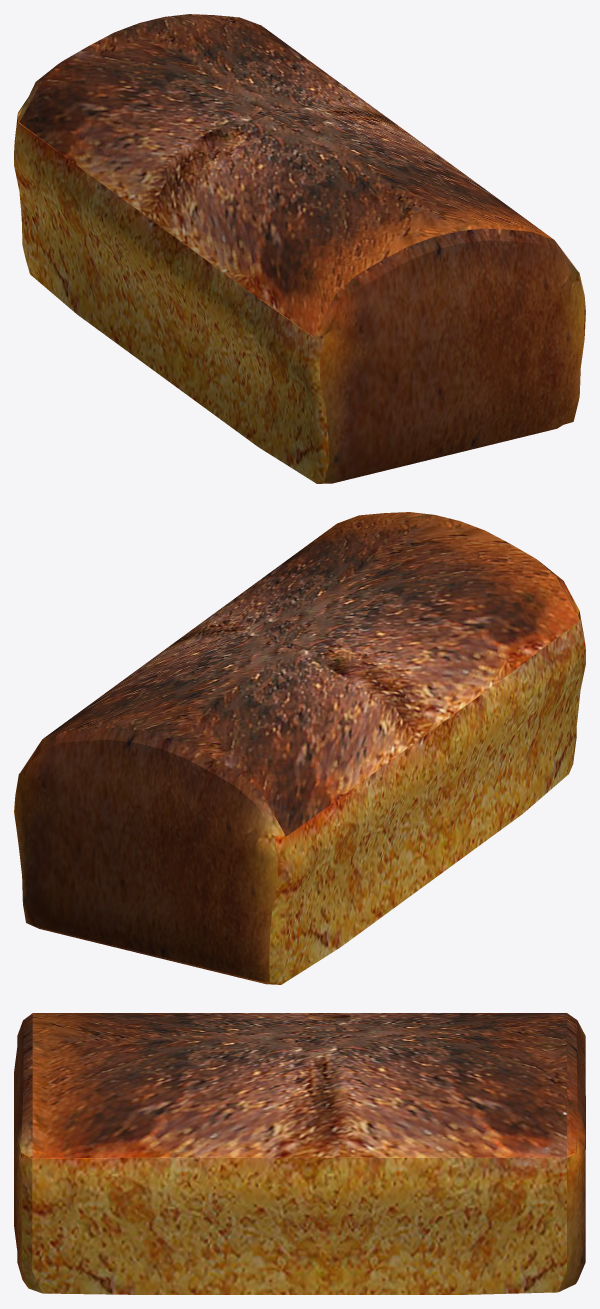
File: bochnapszenna.FBX
3 views of the same model, one above another, from view 1: azimuth 30°, elevation 25°; view 2: azimuth 150°, elevation 25°; view 3: azimuth 270°, elevation 25° (orthographic). The views are drawn at different scales.
Parts seen in each view (by area): view 1: Box001; view 2: Box001; view 3: Box001.
Boxes of the visible parts, left/top/right/bottom form: Box001: left=14, top=14, right=585, bottom=483; Box001: left=14, top=512, right=585, bottom=984; Box001: left=14, top=1013, right=585, bottom=1294.
Bounding box in the file's own units: 53.72 × 40.81 × 105.
